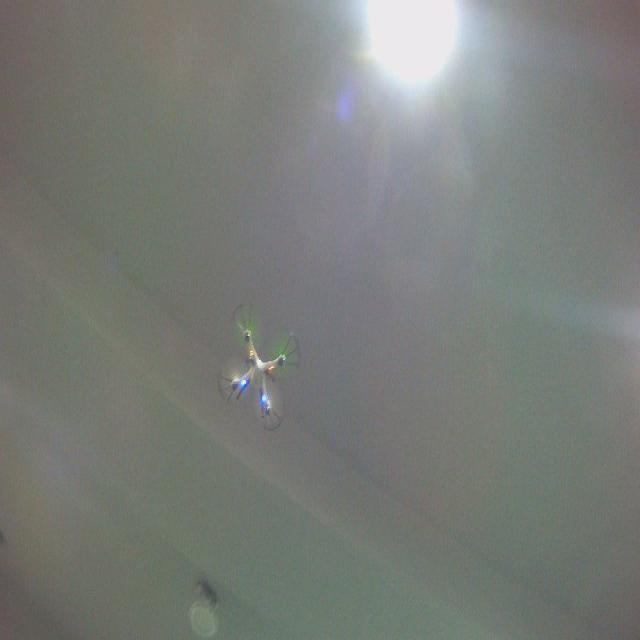drone: (216, 299, 305, 433)
